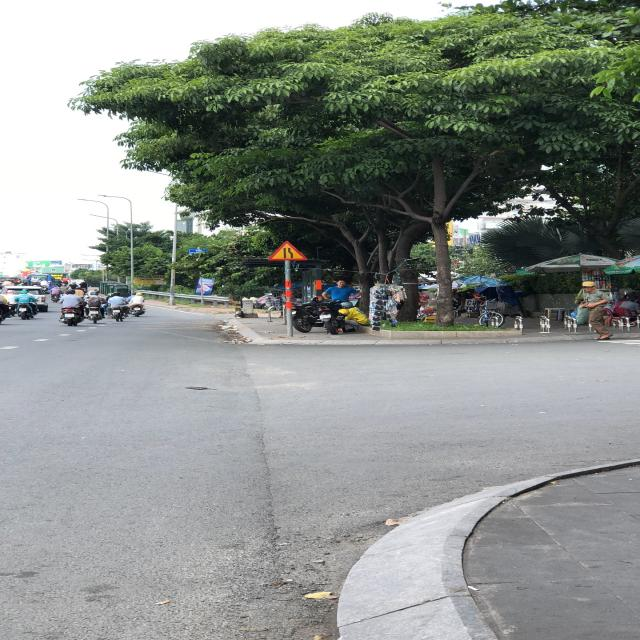Bien bao duong bi thu hep: (264, 239, 312, 262)
